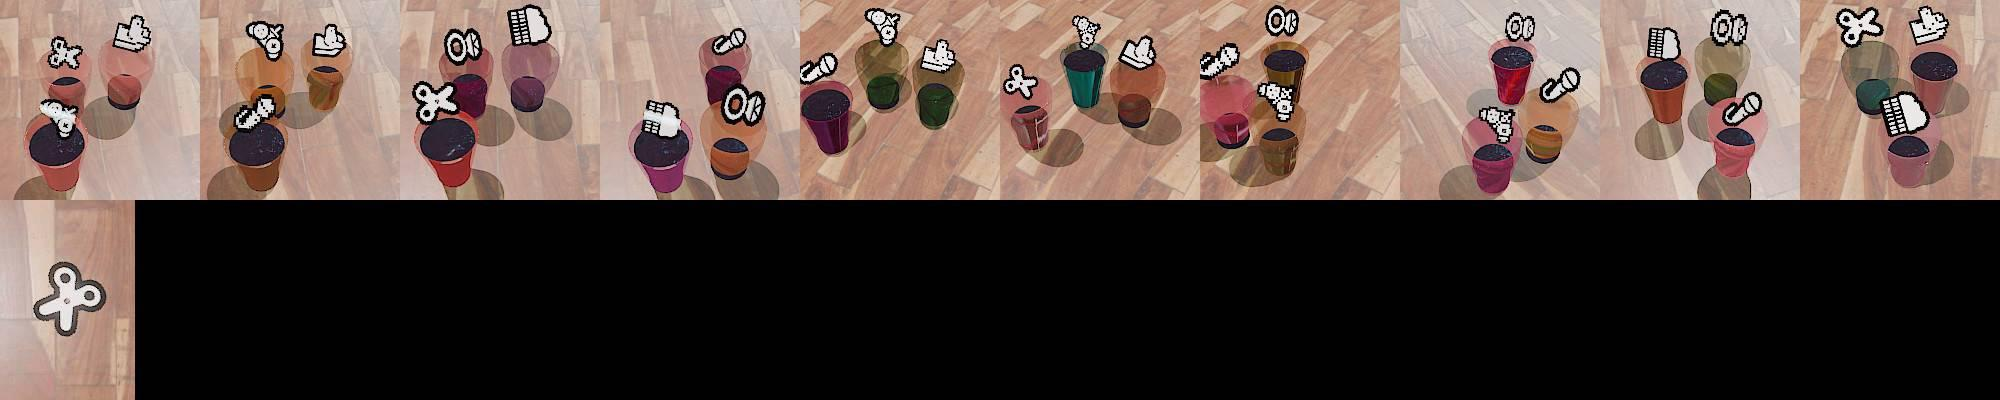icon: (32, 261, 108, 336), (1880, 90, 1932, 139), (412, 79, 460, 122), (721, 83, 767, 127), (1834, 6, 1884, 47), (233, 90, 283, 131), (508, 4, 552, 46), (1906, 5, 1948, 46), (642, 98, 684, 139), (1256, 80, 1296, 122), (246, 19, 286, 61), (37, 98, 79, 138), (1199, 41, 1241, 80), (443, 27, 483, 66), (1540, 66, 1582, 104), (112, 14, 152, 54), (1477, 103, 1517, 143), (1708, 9, 1749, 47), (864, 8, 903, 46), (1721, 89, 1761, 126), (1117, 34, 1156, 71), (311, 22, 347, 59), (800, 51, 838, 85), (48, 36, 84, 71), (1647, 25, 1681, 61), (920, 38, 955, 73), (1003, 64, 1038, 98), (1265, 5, 1300, 38), (1070, 15, 1102, 51), (712, 27, 746, 55), (1505, 11, 1536, 42)
